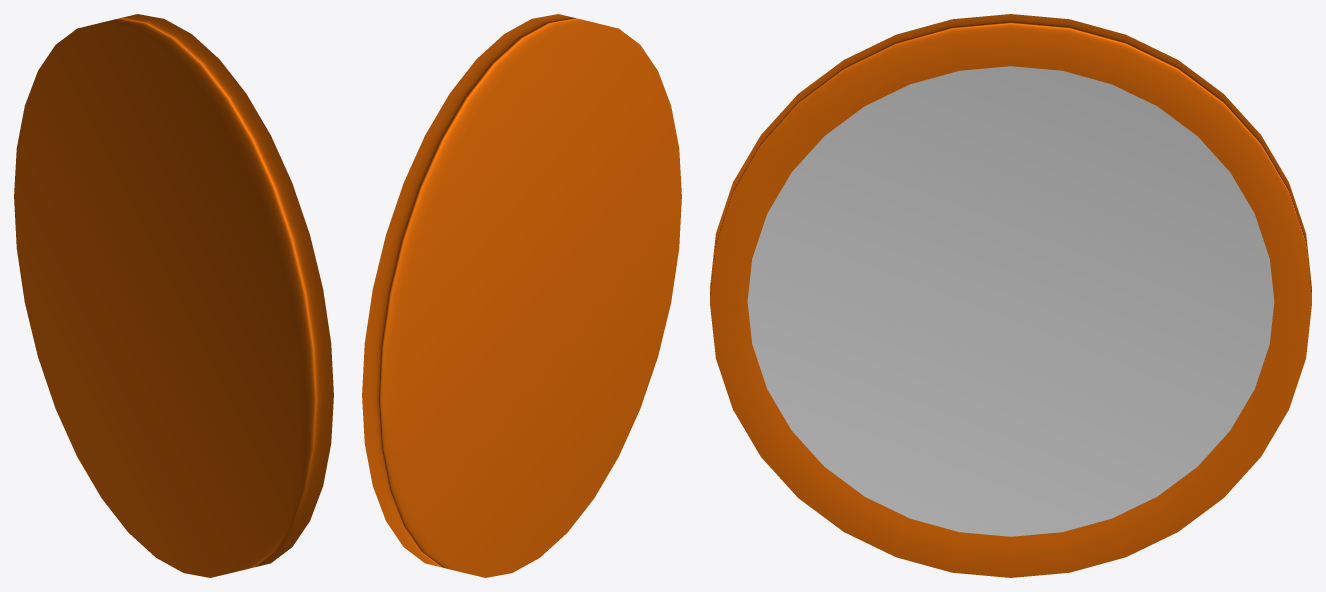
File: espejo.fbx
3 renders of one model, left to right at view 1: azimuth 30°, elevation 25°; view 2: azimuth 150°, elevation 25°; view 3: azimuth 270°, elevation 25°, orthographic. The views are drawn at different scales.
Visible parts, largest first — view 1: Cilindro.004; view 2: Cilindro.004; view 3: Cilindro.004.
Part boxes in pixels (x1=…): Cilindro.004: x1=14, y1=14, x2=333, y2=577; Cilindro.004: x1=362, y1=14, x2=681, y2=577; Cilindro.004: x1=710, y1=14, x2=1311, y2=577.
Size of the model in its own units: 20.43 by 280 by 280.
